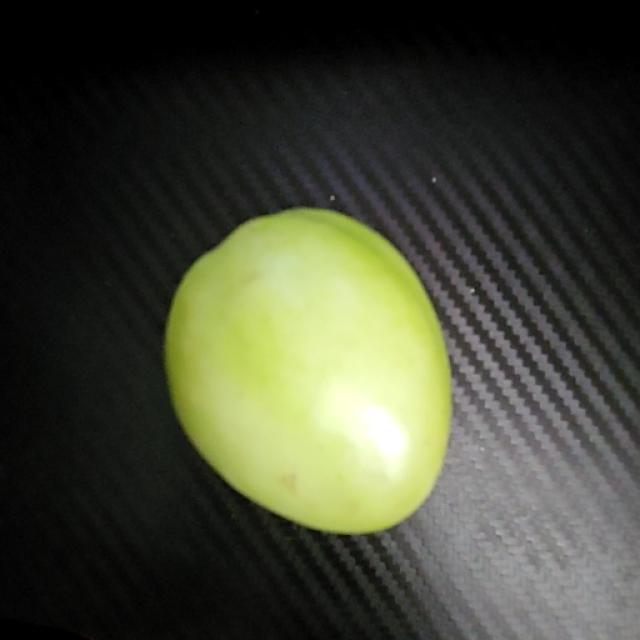Red: (161, 203, 455, 536)
